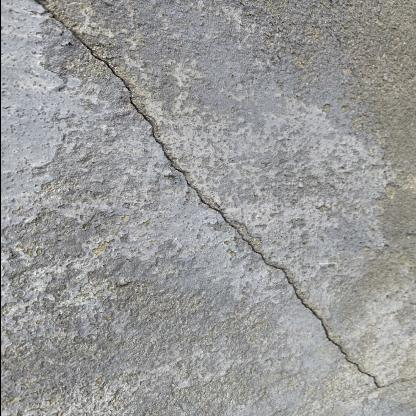crack: (27, 0, 380, 387)
